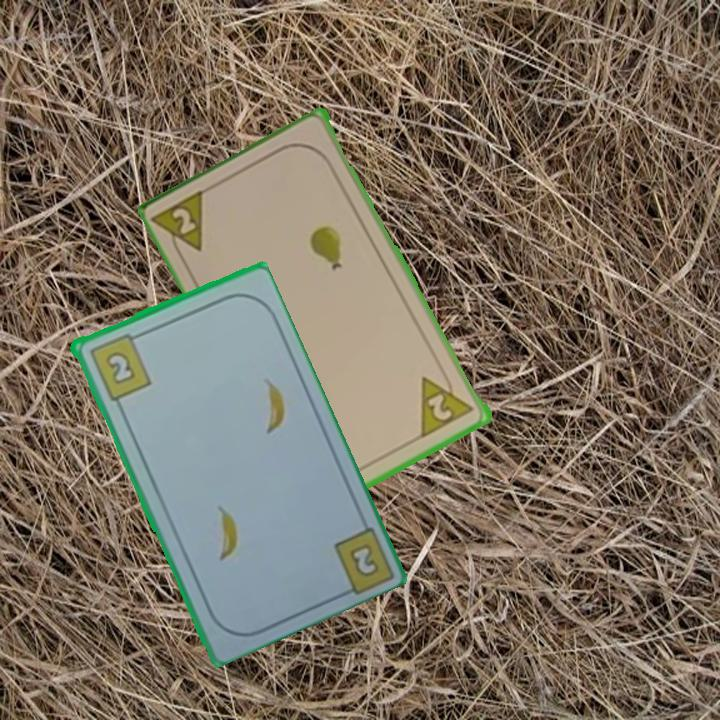2b: (329, 520, 395, 599), (85, 329, 154, 403)
2p: (151, 185, 211, 265), (417, 365, 477, 440)
